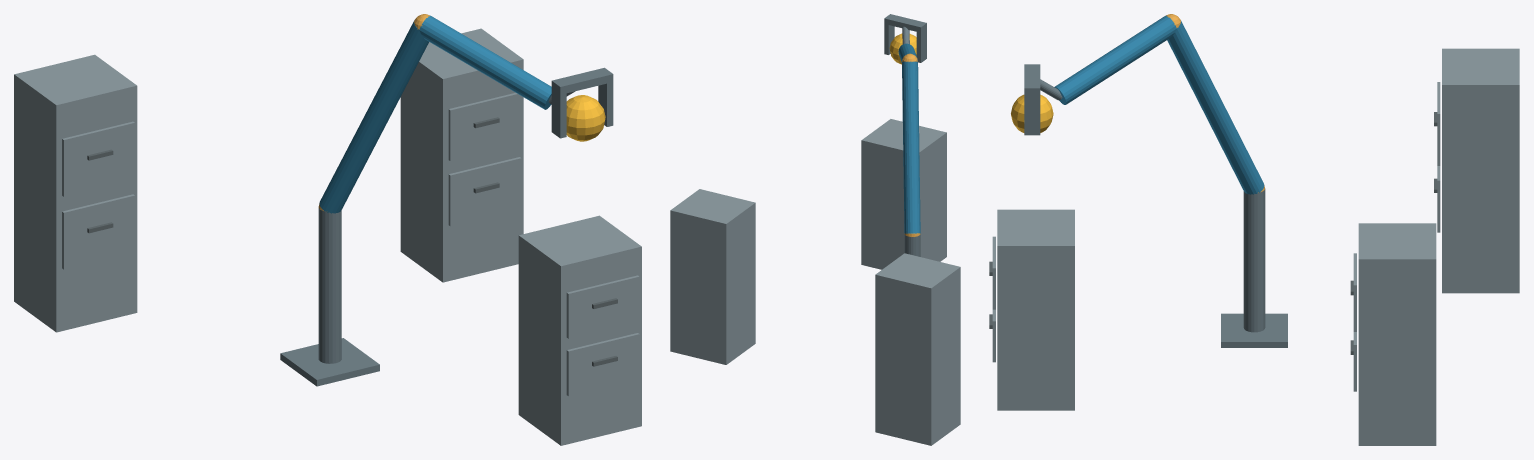
The picture shows the model from 3 angles, left to right: view 1: azimuth 30°, elevation 25°; view 2: azimuth 150°, elevation 25°; view 3: azimuth 270°, elevation 25°; orthographic projection. The views are drawn at different scales.
Parts seen in each view (by area): view 1: cabinet_3 body, cabinet_1 body, cabinet_2 body, moving link 1, cabinet_3 drawer front.001, cabinet_3 drawer front, cabinet_2 drawer front, cabinet_2 drawer front.001, fixed post, moving link 2, cabinet_1 drawer front.001, cabinet_1 drawer front (+4 smaller); view 2: cabinet_3 body, cabinet_2 body, cabinet_1 body, moving link 1, gripper bridge, ball ball_1, fixed post, gripper finger -1; view 3: cabinet_3 body, cabinet_2 body, cabinet_1 body, moving link 1, fixed post, moving link 2, pedestal, ball ball_1, gripper finger 1, gripper bridge.
Boxes of the visible parts, x1,y1,x2,y2 form: cabinet_3 body: [14, 54, 137, 332]; cabinet_1 body: [518, 215, 641, 445]; cabinet_2 body: [400, 28, 523, 282]; moving link 1: [319, 21, 428, 213]; cabinet_3 drawer front.001: [62, 121, 134, 196]; cabinet_3 drawer front: [62, 194, 134, 269]; cabinet_2 drawer front: [448, 157, 521, 226]; cabinet_2 drawer front.001: [448, 92, 521, 161]; fixed post: [318, 208, 341, 363]; moving link 2: [419, 15, 551, 109]; cabinet_1 drawer front.001: [566, 275, 639, 338]; cabinet_1 drawer front: [566, 333, 639, 396]; cabinet_3 body: [875, 253, 960, 445]; cabinet_2 body: [670, 189, 755, 364]; cabinet_1 body: [861, 119, 946, 269]; moving link 1: [902, 61, 920, 233]; gripper bridge: [884, 14, 926, 32]; ball ball_1: [889, 33, 916, 64]; fixed post: [904, 234, 920, 256]; gripper finger -1: [916, 29, 926, 62]; cabinet_3 body: [1442, 48, 1519, 293]; cabinet_2 body: [1358, 223, 1436, 445]; cabinet_1 body: [997, 209, 1074, 410]; moving link 1: [1167, 21, 1264, 194]; fixed post: [1243, 189, 1265, 332]; moving link 2: [1054, 15, 1176, 104]; pedestal: [1221, 313, 1287, 347]; ball ball_1: [1011, 94, 1053, 132]; gripper finger 1: [1024, 95, 1040, 135]; gripper bridge: [1024, 64, 1040, 95].
Size of the model in its own units: 1.67 by 1.41 by 1.98.
